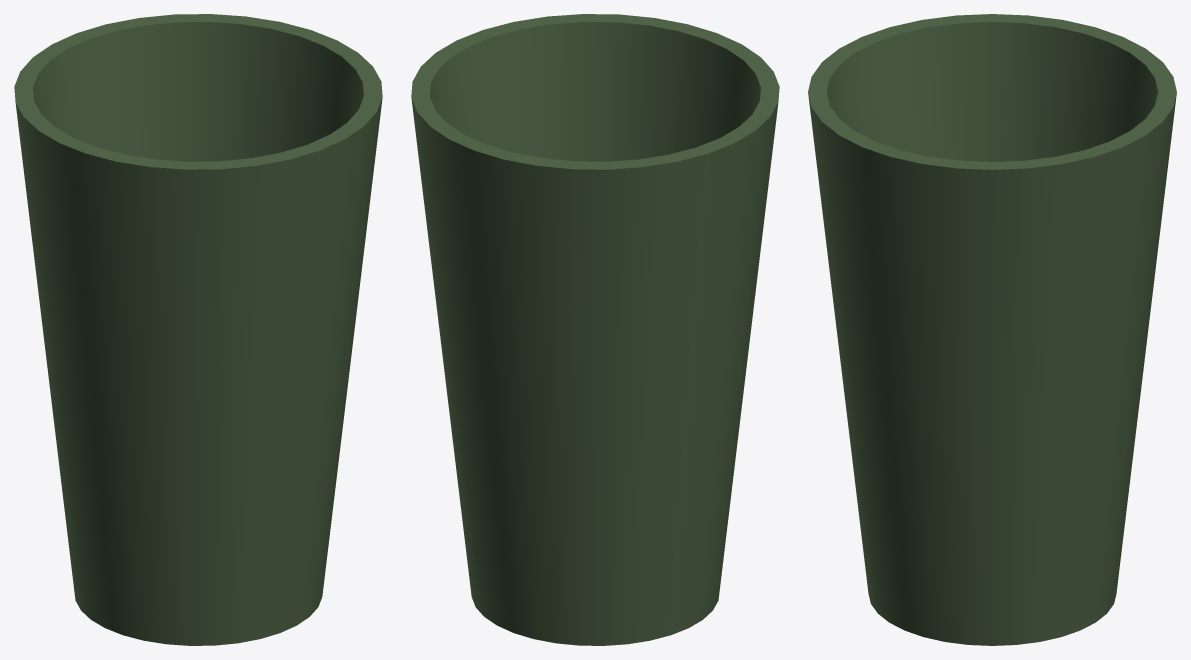
Rendered from Glass.FBX.
3 views of the same model, side by side, from view 1: azimuth 30°, elevation 25°; view 2: azimuth 150°, elevation 25°; view 3: azimuth 270°, elevation 25° (orthographic).
Visible parts, largest first — view 1: Cylinder059; view 2: Cylinder059; view 3: Cylinder059.
Part boxes in pixels (left/top/right/bottom): Cylinder059: left=14, top=14, right=382, bottom=645; Cylinder059: left=411, top=14, right=779, bottom=645; Cylinder059: left=808, top=14, right=1176, bottom=645.
Bounding box in the file's own units: 80 × 120 × 80.
